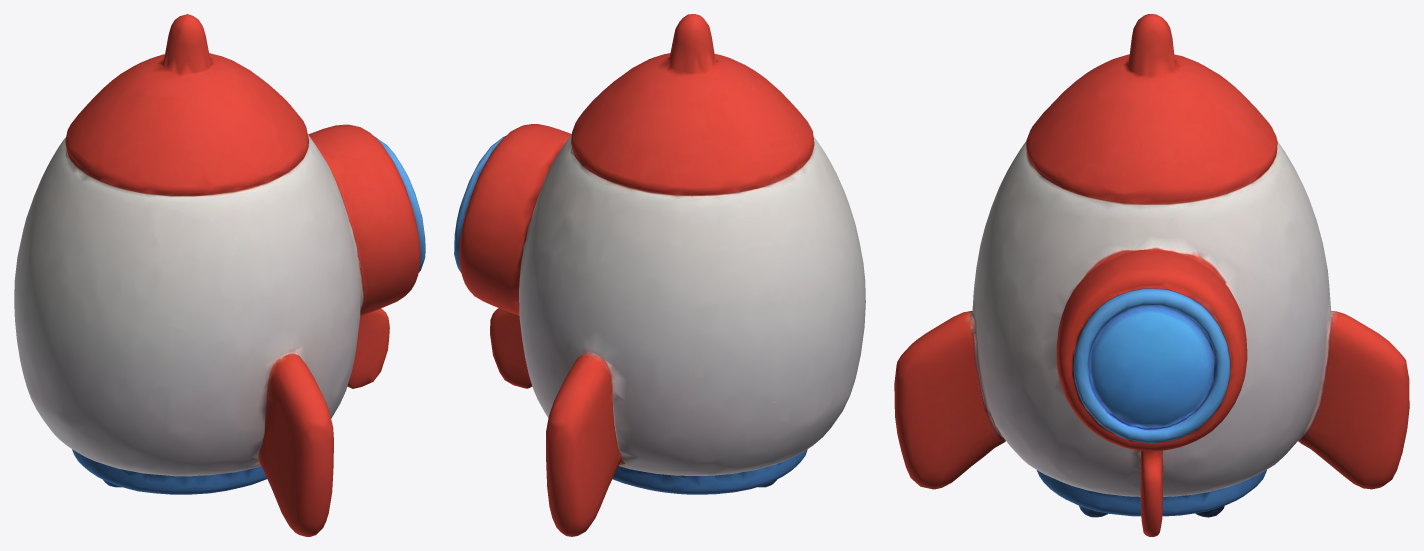
File: rocket.glb
The picture shows the model from 3 angles, left to right: view 1: azimuth 30°, elevation 25°; view 2: azimuth 150°, elevation 25°; view 3: azimuth 270°, elevation 25°; orthographic projection. The views are drawn at different scales.
Visible parts, largest first — view 1: tripo_node_e50fa676-d983-4b29-ac97-dd331d2bbd1b; view 2: tripo_node_e50fa676-d983-4b29-ac97-dd331d2bbd1b; view 3: tripo_node_e50fa676-d983-4b29-ac97-dd331d2bbd1b.
Boxes of the visible parts, x1=… form: tripo_node_e50fa676-d983-4b29-ac97-dd331d2bbd1b: x1=14, y1=14, x2=425, y2=536; tripo_node_e50fa676-d983-4b29-ac97-dd331d2bbd1b: x1=454, y1=14, x2=865, y2=536; tripo_node_e50fa676-d983-4b29-ac97-dd331d2bbd1b: x1=894, y1=14, x2=1409, y2=536.
Bounding box in the file's own units: 0.8396 × 1 × 0.986.
1 material, 1 textured.
